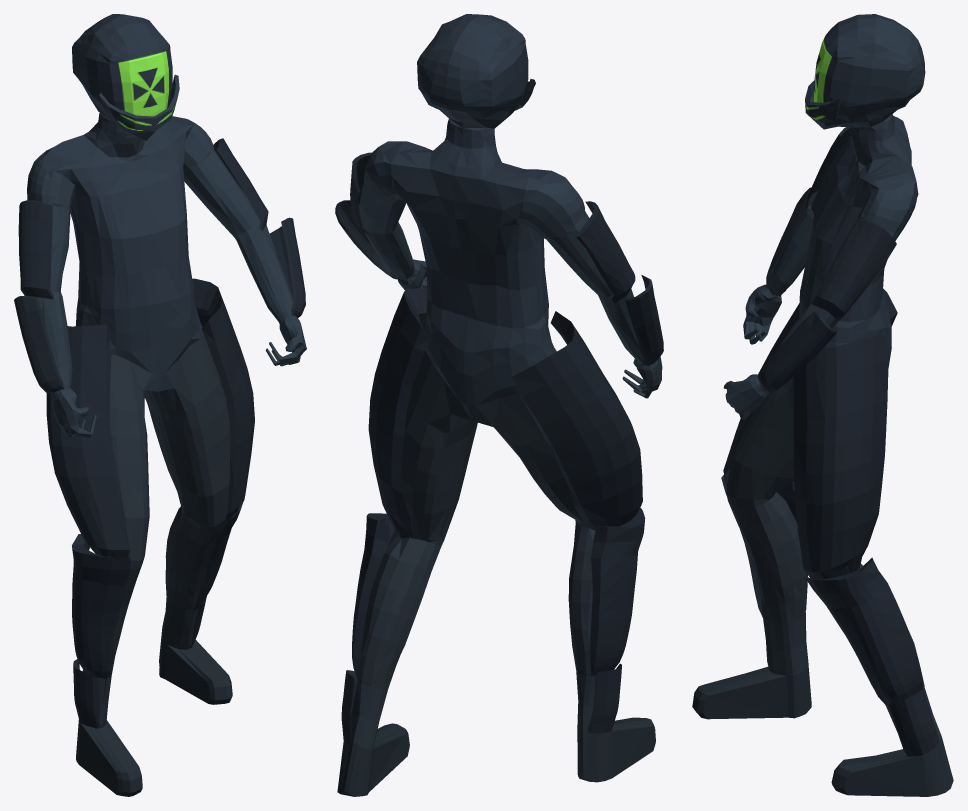
File: Bastion_Stun_000012.obj
The picture shows the model from 3 angles, left to right: view 1: azimuth 30°, elevation 25°; view 2: azimuth 150°, elevation 25°; view 3: azimuth 270°, elevation 25°; orthographic projection. The views are drawn at different scales.
Visible parts, largest first — view 1: Cube.002; view 2: Cube.002; view 3: Cube.002.
Boxes of the visible parts, <box> form: Cube.002: <box>14,14,306,796</box>; Cube.002: <box>335,14,663,796</box>; Cube.002: <box>692,14,953,796</box>.
Bounding box in the file's own units: 1.59 × 3.76 × 1.22.
